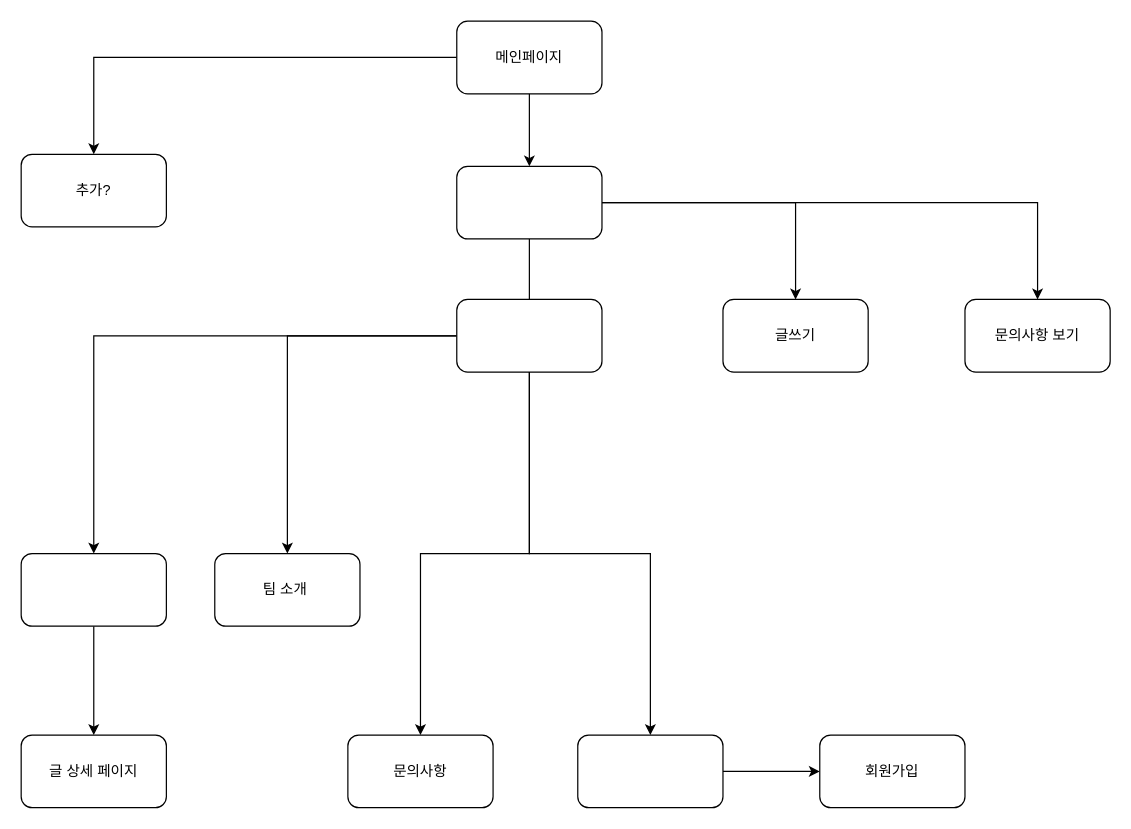
The diagram is 1131 pixels wide and 829 high, and some of its shapes have lost their labels. The box of each missing label's shape, as (x1, y1, x2, y2) in pixels:
normal user: (456, 298, 602, 372)
root user: (456, 165, 602, 239)
게시판: (20, 552, 166, 626)
로그인: (577, 734, 723, 808)
